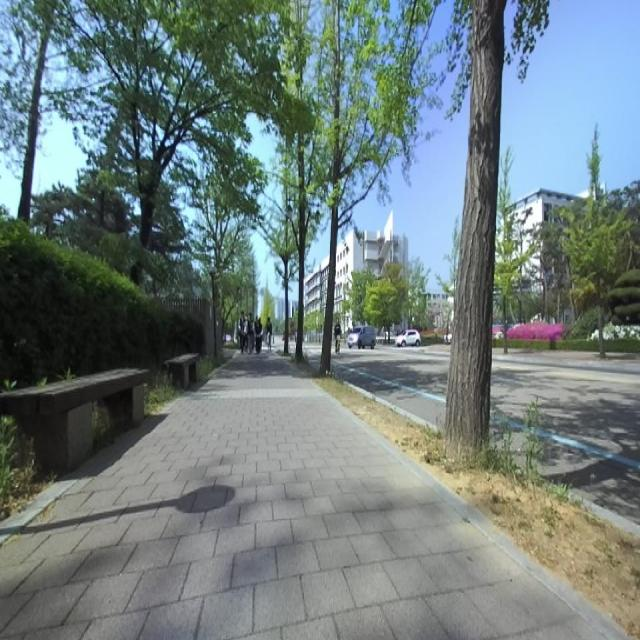sidewalk: (0, 354, 625, 639)
